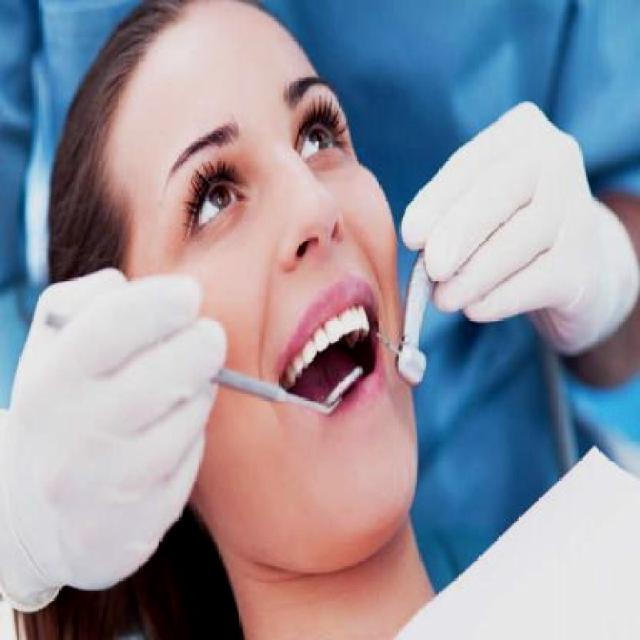face_nomask: (169, 52, 409, 574)
hand_glove: (19, 269, 226, 597), (397, 97, 606, 326)
head_nohelmet: (28, 0, 294, 180)
